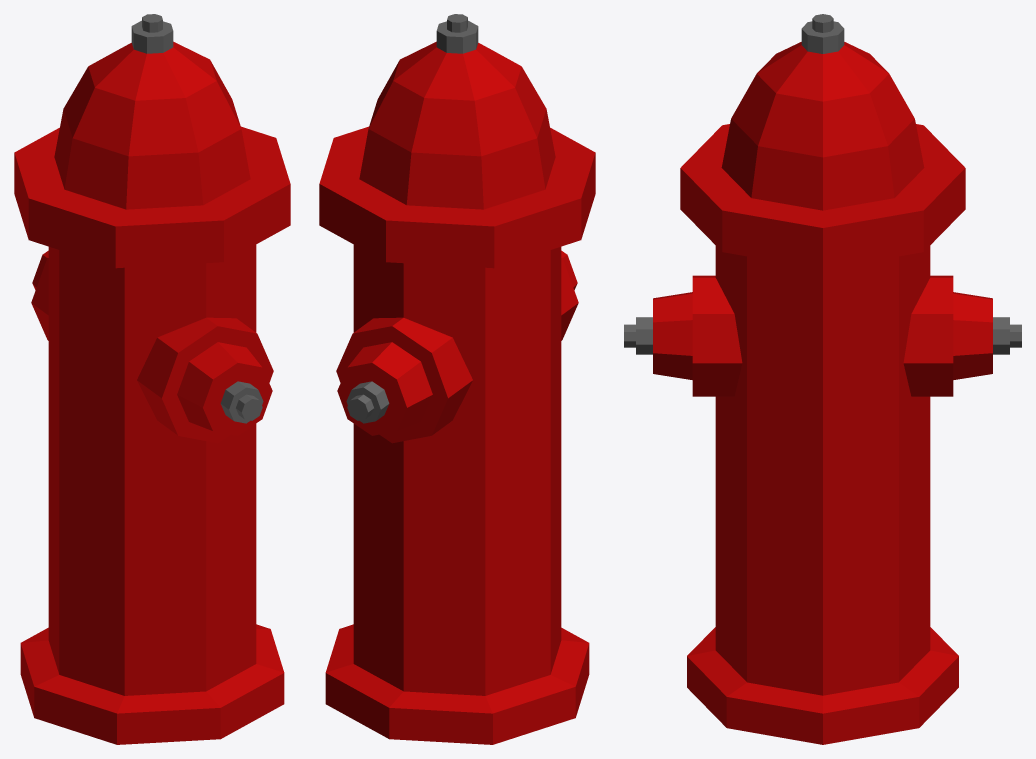
The model's file is Fire_Hydrant.fbx.
3 views of the same model, side by side, from view 1: azimuth 30°, elevation 25°; view 2: azimuth 150°, elevation 25°; view 3: azimuth 270°, elevation 25° (orthographic).
Visible parts, largest first — view 1: Fire Hydrant; view 2: Fire Hydrant; view 3: Fire Hydrant.
Boxes of the visible parts, x1=… form: Fire Hydrant: x1=14, y1=14, x2=290, y2=744; Fire Hydrant: x1=319, y1=14, x2=595, y2=744; Fire Hydrant: x1=624, y1=14, x2=1021, y2=744.
Bounding box in the file's own units: 0.4658 × 1.21 × 0.6502.
